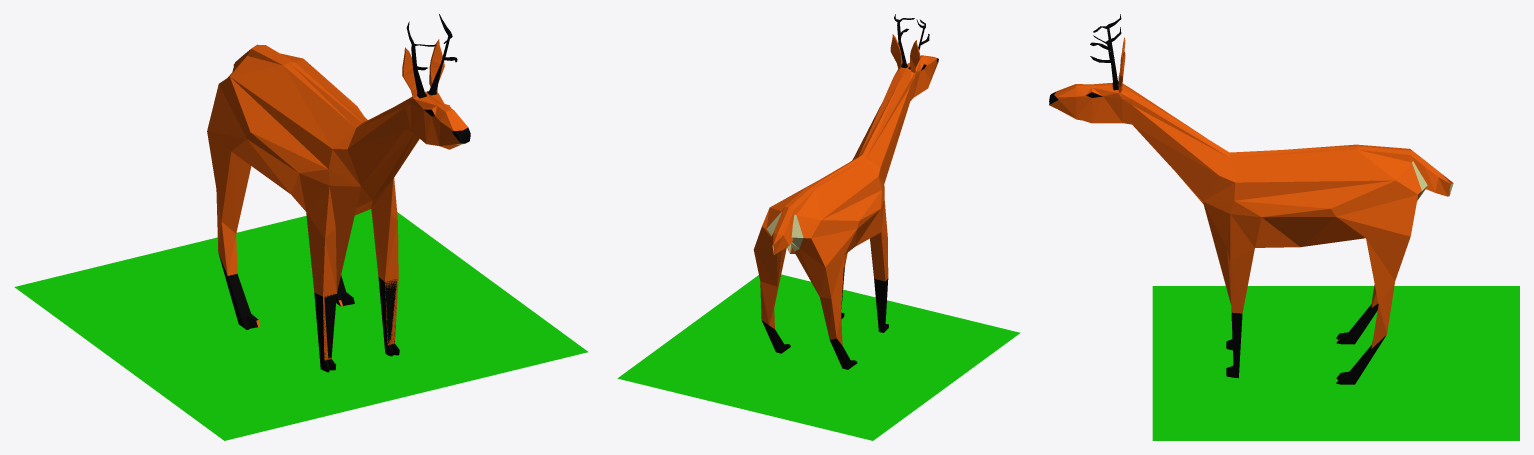
File: Deer.dae
3 renders of one model, left to right at view 1: azimuth 30°, elevation 25°; view 2: azimuth 150°, elevation 25°; view 3: azimuth 270°, elevation 25°, orthographic. The views are drawn at different scales.
Parts seen in each view (by area): view 1: Plane, Deer; view 2: Plane, Deer; view 3: Plane, Deer.
Boxes of the visible parts, x1,y1,x2,y2 form: Plane: [14, 209, 588, 440]; Deer: [207, 14, 470, 372]; Plane: [617, 274, 1020, 440]; Deer: [753, 14, 938, 369]; Plane: [1152, 286, 1519, 440]; Deer: [1049, 14, 1453, 384].
Bounding box in the file's own units: 5 × 6.41 × 5.15.
